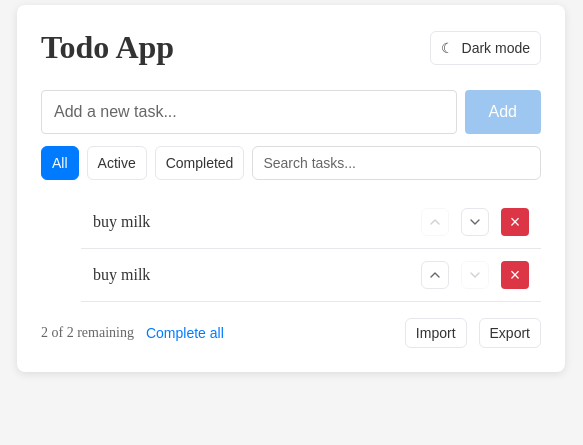
Test case: labels the delete button with the todo text
The width and height of the screenshot is (583, 445).
Type "walk the dog" into the field with placeholder "Add a new task..." at (249, 112), box [41,90,456,134]
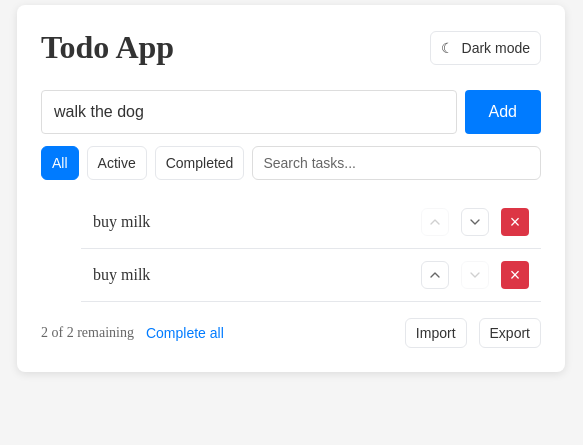
Submit the form with placeholder "Add a new task", box [41,90,541,134]
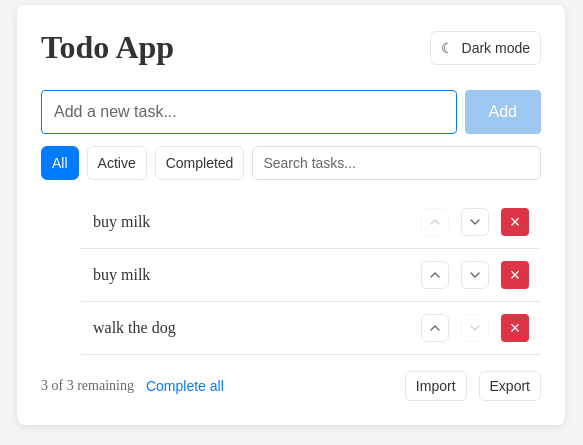
Expected: the button named "delete walk the dog" is shown, [501,314,529,342]
